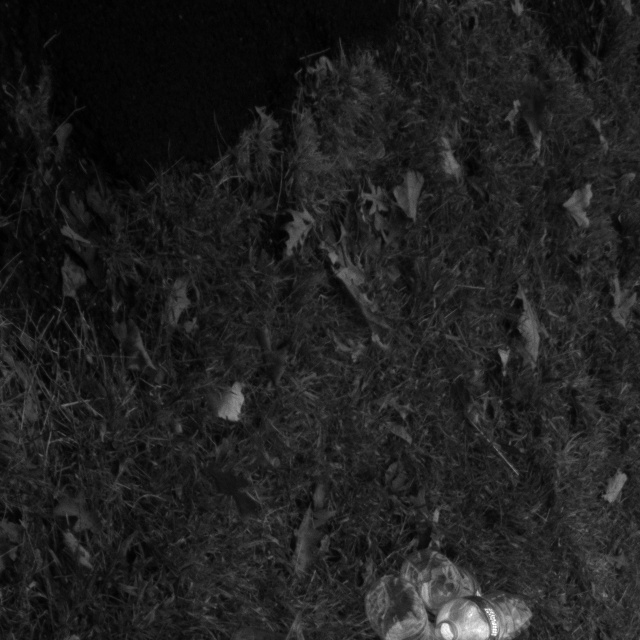bottle: (432, 585, 538, 640)
